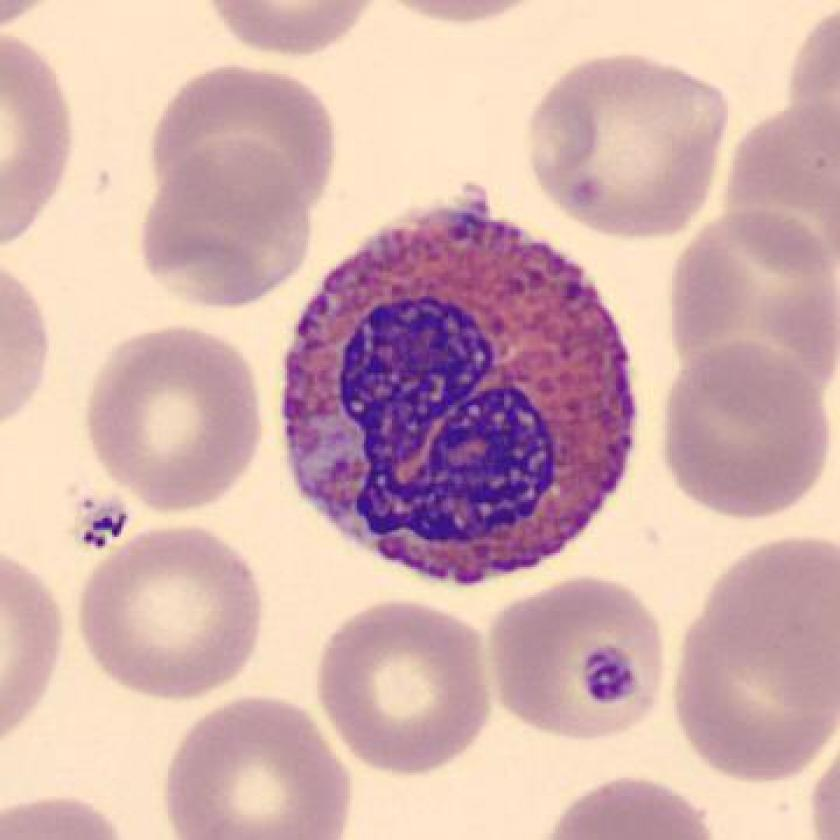eosinophil: (269, 175, 645, 598)
